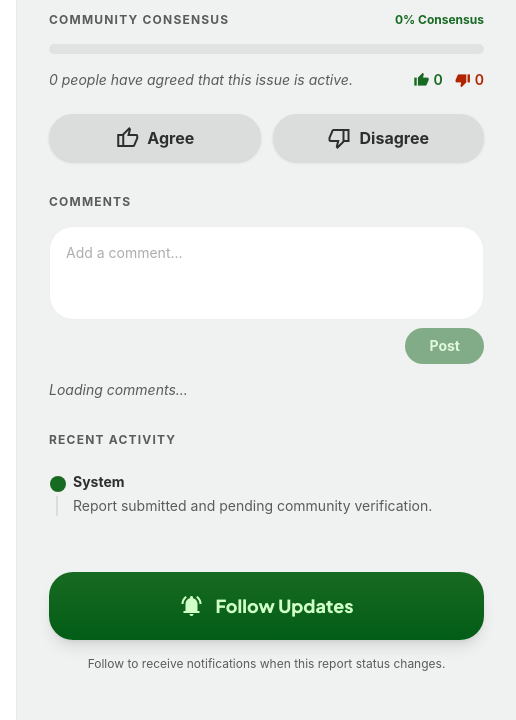
Test: ReportPanel › shows a spinner on the follow control while the follow request is pending
The width and height of the screenshot is (516, 720).
(page scrolled)
Click the button "Follow Updates" at (266, 606), box 49,572 -> 484,640
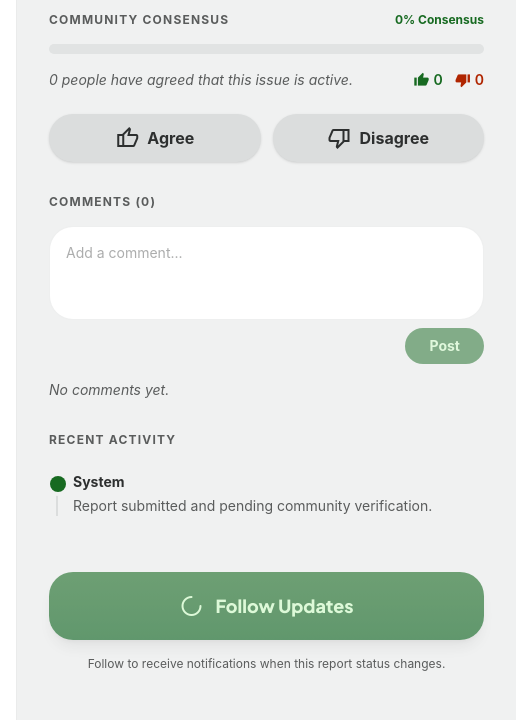
Expected: the text with class "animate-spin" is shown, 180,594 -> 204,618
